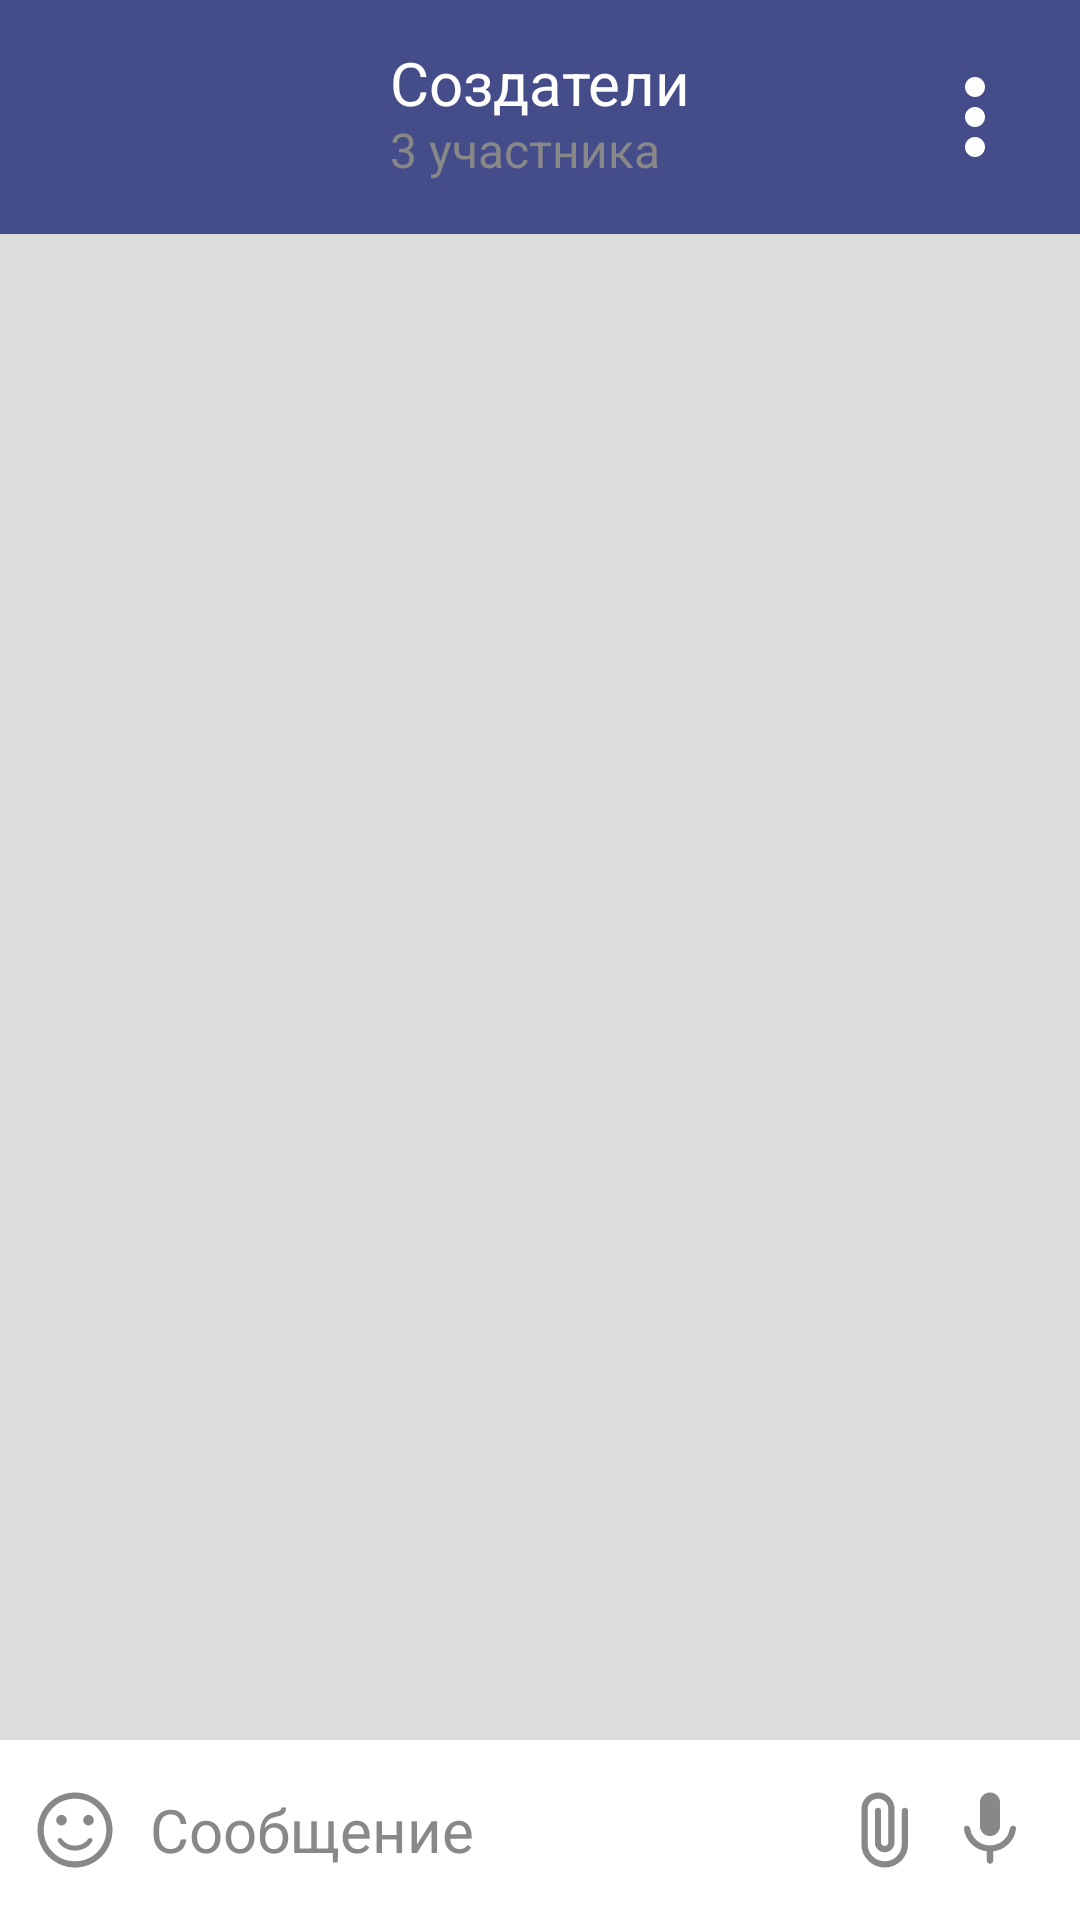

Icon click points for this 1080 × 1920 phone screenshot, format point (x, y):
more vert: point (975, 117)
Прикрепить файл: point (884, 1830)
Смайлики: point (75, 1830)
